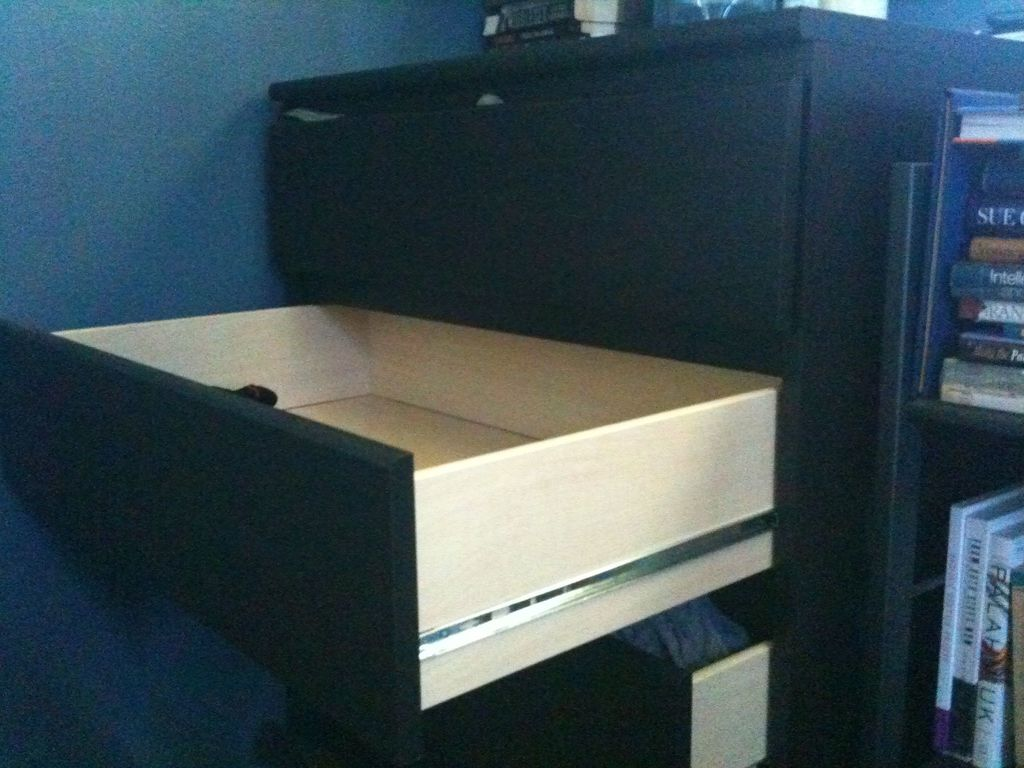cabinet door: (286, 121, 794, 325), (15, 355, 407, 575), (519, 673, 698, 768)
handle: (258, 69, 820, 114)
